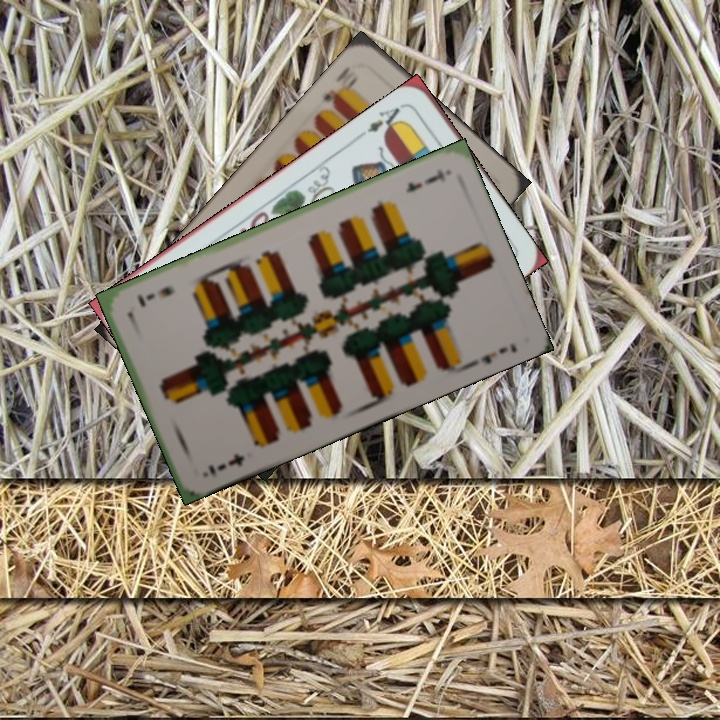E10: (318, 62, 361, 110)
E7: (401, 164, 448, 195), (204, 449, 247, 478)
EA: (363, 99, 408, 139)
